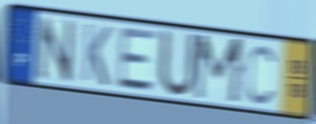C: (244, 43, 277, 107)
E: (115, 27, 160, 94)
K: (79, 21, 113, 89)
M: (191, 32, 247, 107)
N: (37, 14, 77, 85)
U: (156, 26, 201, 101)
